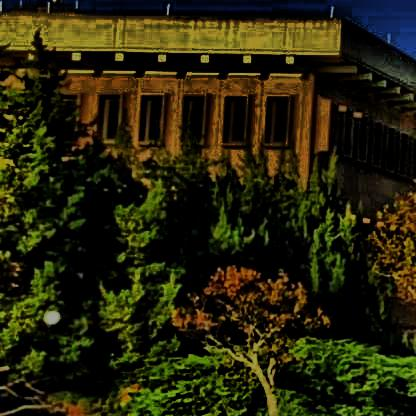golfball: (38, 306, 59, 321)
